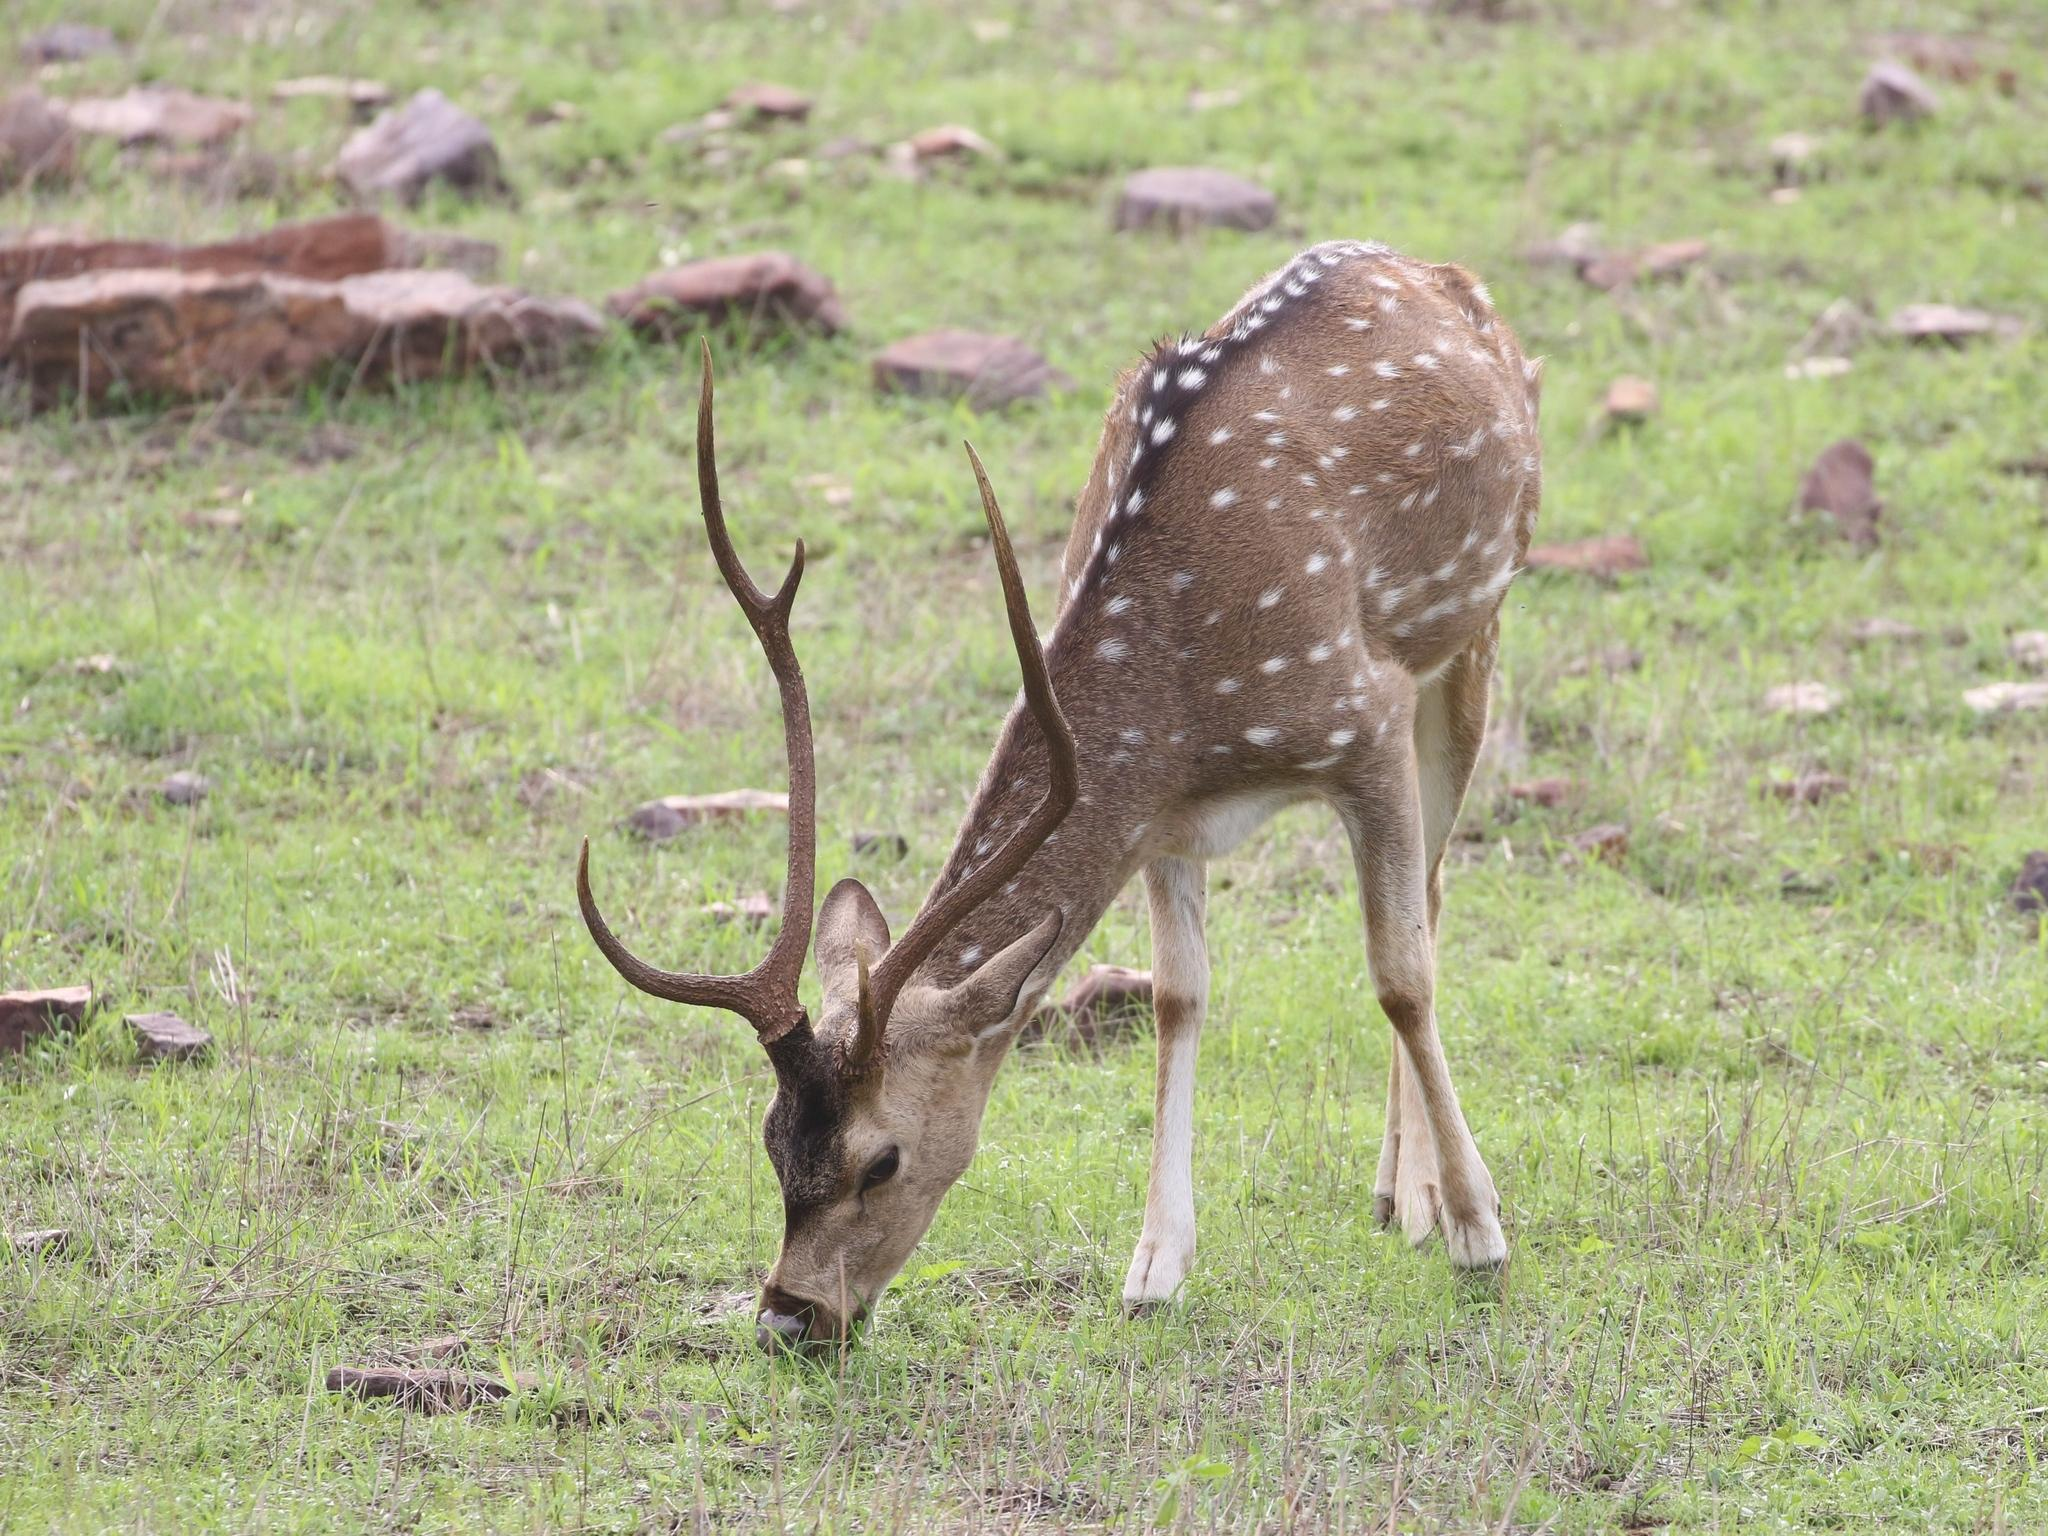Deer: (577, 240, 1538, 1346)
